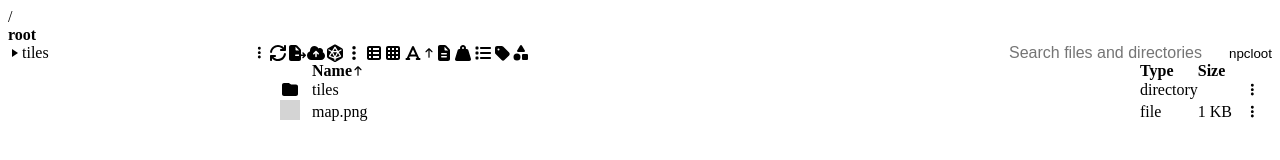
Test case: FileBrowser › navigates into a subdirectory and updates the breadcrumb
This screenshot has width=1280, height=160.
Click the button "tiles" in the row of "directory": (325, 90) [312,81,339,99]
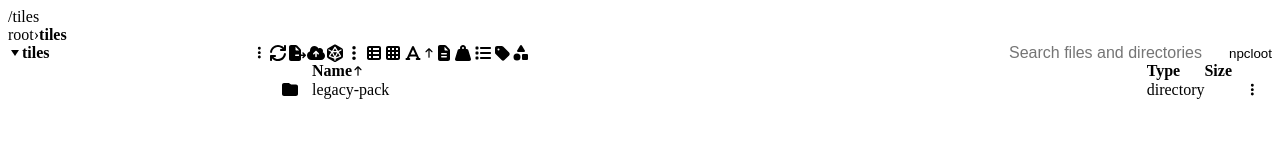
Now the 1st button "tiles" is disabled, box [39,26,67,44]
Now the button "root" is enabled, box [8,26,34,44]
